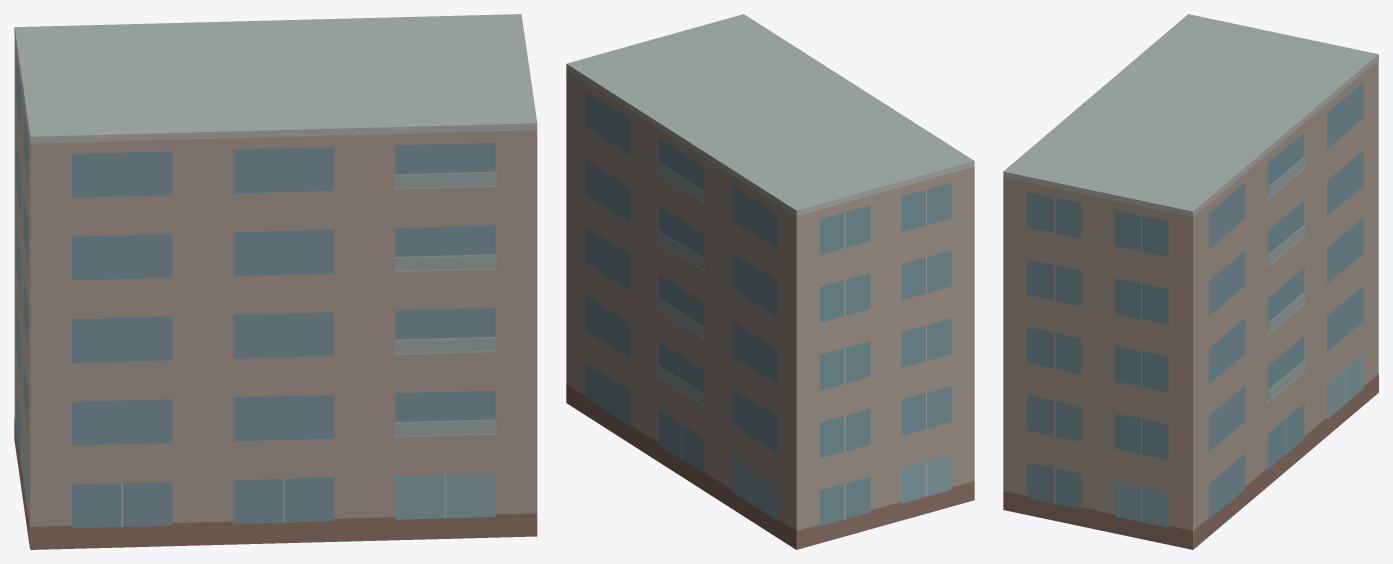
The model's file is survey-upis-32842171.glb.
3 views of the same model, side by side, from view 1: azimuth 30°, elevation 25°; view 2: azimuth 150°, elevation 25°; view 3: azimuth 270°, elevation 25° (orthographic). The views are drawn at different scales.
Visible parts, largest first — view 1: survey-upis-32842171.tmp; view 2: survey-upis-32842171.tmp; view 3: survey-upis-32842171.tmp.
Boxes of the visible parts, <box> form: survey-upis-32842171.tmp: <box>14,14,537,549</box>; survey-upis-32842171.tmp: <box>566,14,974,549</box>; survey-upis-32842171.tmp: <box>1003,14,1378,549</box>.
Bounding box in the file's own units: 18.04 × 14.4 × 14.49.
